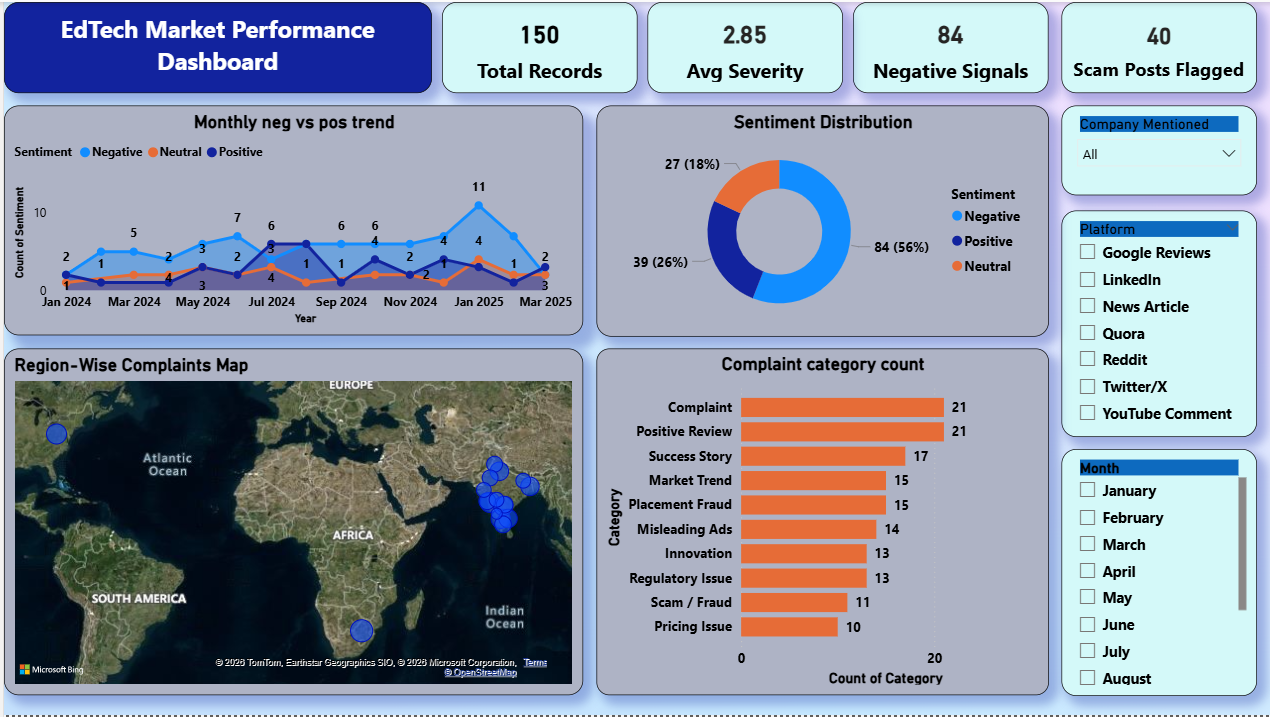

Layout of this report page (visuals, bound fields, positions):
{"tool":"powerbi","page":{"name":"Dashboard","canvas":[1280,720],"ordinal":6},"visuals":[{"type":"textbox","box":[0,0,432,92.2],"z":0},{"type":"card","fields":{"Values":["Raw_Data.Total Records"]},"box":[442.1,0,197.3,92.2],"z":1000},{"type":"card","fields":{"Values":["Data.Negative Signals"]},"box":[856.8,0,197.3,92.2],"z":2000},{"type":"card","fields":{"Values":["Raw_Data.Avg Severity"]},"box":[649.4,0,197.3,92.2],"z":3000},{"type":"card","fields":{"Values":["Data.Scam Posts Flagged"]},"box":[1067,0,197.3,92.2],"z":4000},{"type":"slicer","fields":{"Values":["Raw_Data.Platform"]},"box":[1067,210.2,197.3,229],"z":5000},{"type":"lineChart","title":" Monthly neg vs pos trend","fields":{"Series":["Raw_Data.Sentiment"],"Y":["CountNonNull(Raw_Data.Sentiment)"],"Category":["Raw_Data.Month-Year.Variation.Date Hierarchy.Year","Raw_Data.Month-Year.Variation.Date Hierarchy.Month"]},"box":[0,105.1,584.6,231.8],"z":6000},{"type":"donutChart","title":"Sentiment Distribution","fields":{"Category":["Raw_Data.Sentiment"],"Y":["CountNonNull(Raw_Data.Sentiment)"]},"box":[597.6,105.1,456.5,233.3],"z":7000},{"type":"map","title":"Region-Wise Complaints Map","fields":{"Category":["Raw_Data.Region"],"Size":["CountNonNull(Raw_Data.Region)"]},"box":[0,349.9,584.6,349.9],"z":8000},{"type":"clusteredBarChart","title":"Complaint category count","fields":{"Category":["Raw_Data.Category"],"Y":["CountNonNull(Raw_Data.Category)"]},"box":[597.6,349.9,456.5,349.9],"z":9000},{"type":"slicer","fields":{"Values":["Raw_Data.Company Mentioned"]},"box":[1067,105.1,197.3,90.7],"z":10000},{"type":"slicer","fields":{"Values":["Data.Month-Year.Variation.Date Hierarchy.Month"]},"box":[1067,450.7,197.3,249.1],"z":10001}]}

Visuals, with their boxes in screenshot pixels (x1, y1, x2, y2), scaled from the page's 1280x720 canvas onto the 1270x717 screenshot:
textbox: select_region(0, 0, 429, 92)
card - Raw_Data.Total Records: select_region(439, 0, 634, 92)
card - Data.Negative Signals: select_region(850, 0, 1046, 92)
card - Raw_Data.Avg Severity: select_region(644, 0, 840, 92)
card - Data.Scam Posts Flagged: select_region(1059, 0, 1254, 92)
slicer - Raw_Data.Platform: select_region(1059, 209, 1254, 437)
" Monthly neg vs pos trend" lineChart: select_region(0, 105, 580, 335)
"Sentiment Distribution" donutChart: select_region(593, 105, 1046, 337)
"Region-Wise Complaints Map" map: select_region(0, 348, 580, 697)
"Complaint category count" clusteredBarChart: select_region(593, 348, 1046, 697)
slicer - Raw_Data.Company Mentioned: select_region(1059, 105, 1254, 195)
slicer - Data.Month-Year.Variation.Date Hierarchy.Month: select_region(1059, 449, 1254, 697)
